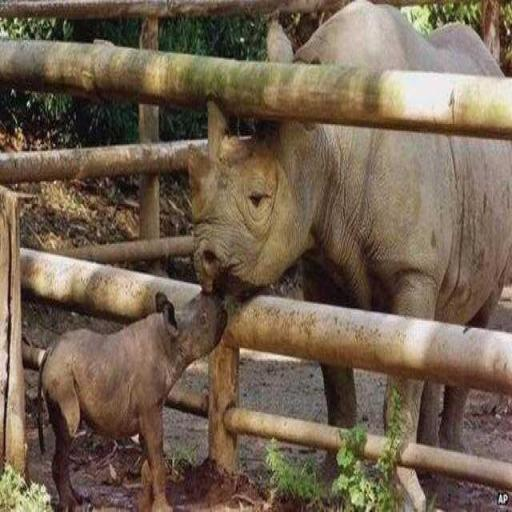Rhino: (186, 0, 512, 479), (36, 287, 227, 511)
